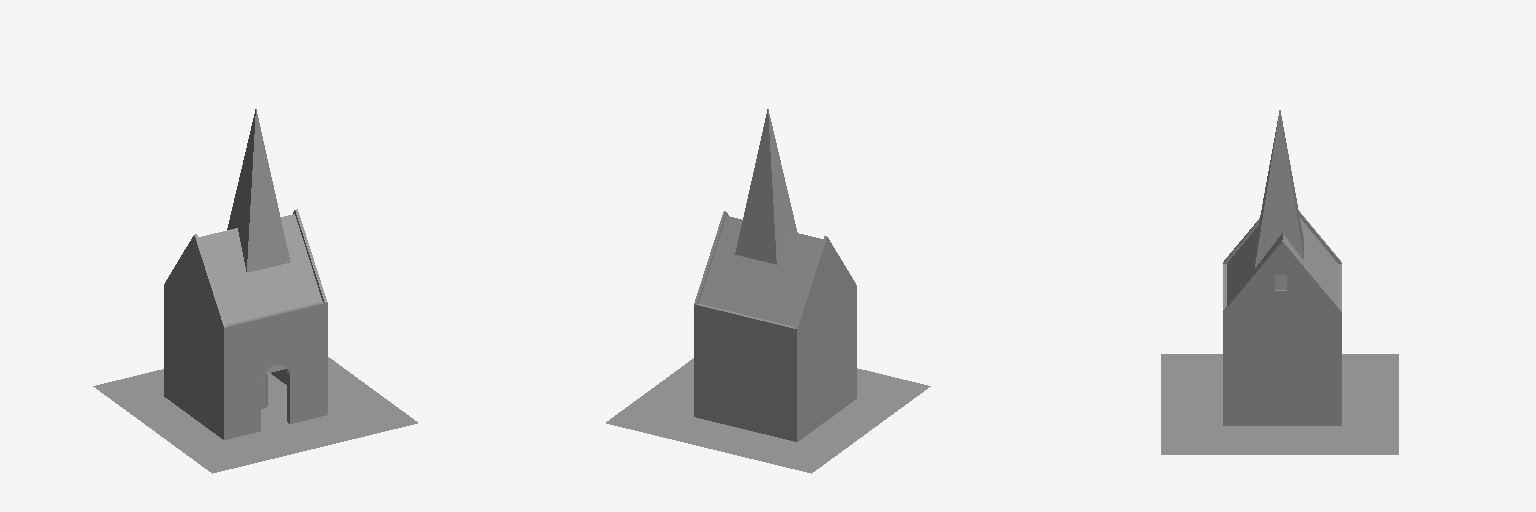
Rendered from isometric-tree.obj.
3 views of the same model, side by side, from view 1: azimuth 30°, elevation 25°; view 2: azimuth 150°, elevation 25°; view 3: azimuth 270°, elevation 25° (orthographic).
Parts seen in each view (by area): view 1: Plane_Plane.001, Plane.001_Plane.002, Circle_Circle.001; view 2: Plane_Plane.001, Plane.001_Plane.002, Circle_Circle.001; view 3: Plane_Plane.001, Plane.001_Plane.002, Circle_Circle.001.
Boxes of the visible parts, x1=… form: Plane_Plane.001: x1=164, y1=209, x2=327, y2=439; Plane.001_Plane.002: x1=93, y1=357, x2=417, y2=473; Circle_Circle.001: x1=227, y1=109, x2=290, y2=408; Plane_Plane.001: x1=694, y1=211, x2=856, y2=441; Plane.001_Plane.002: x1=606, y1=358, x2=930, y2=473; Circle_Circle.001: x1=735, y1=109, x2=797, y2=264; Plane_Plane.001: x1=1223, y1=211, x2=1341, y2=425; Plane.001_Plane.002: x1=1161, y1=354, x2=1398, y2=454; Circle_Circle.001: x1=1255, y1=110, x2=1303, y2=289.
Size of the model in its own units: 4 by 5.5 by 4.